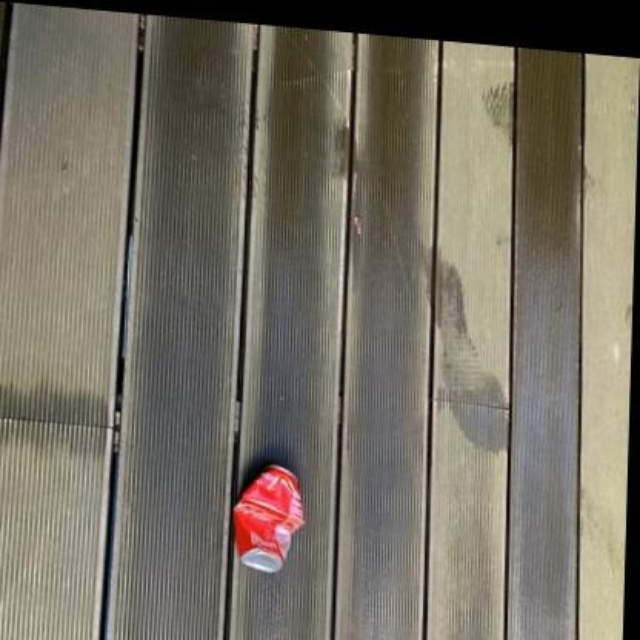trash: (234, 465, 303, 572)
